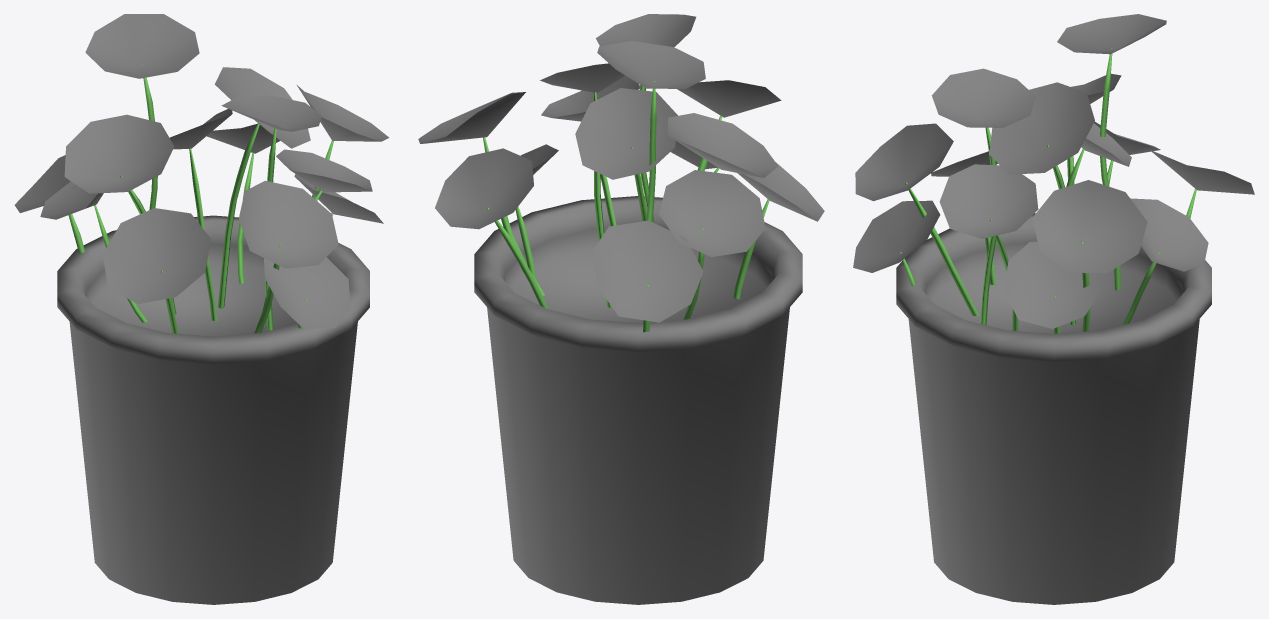
File: SM_flowerpot_03.fbx
3 views of the same model, side by side, from view 1: azimuth 30°, elevation 25°; view 2: azimuth 150°, elevation 25°; view 3: azimuth 270°, elevation 25° (orthographic). The views are drawn at different scales.
Visible parts, largest first — view 1: Cylinder025; view 2: Cylinder025; view 3: Cylinder025.
Part boxes in pixels (x1,y1,x2,y2): Cylinder025: (14,14,389,604); Cylinder025: (418,14,824,604); Cylinder025: (853,14,1254,604).
Size of the model in its own units: 15.62 by 23.49 by 16.66.
